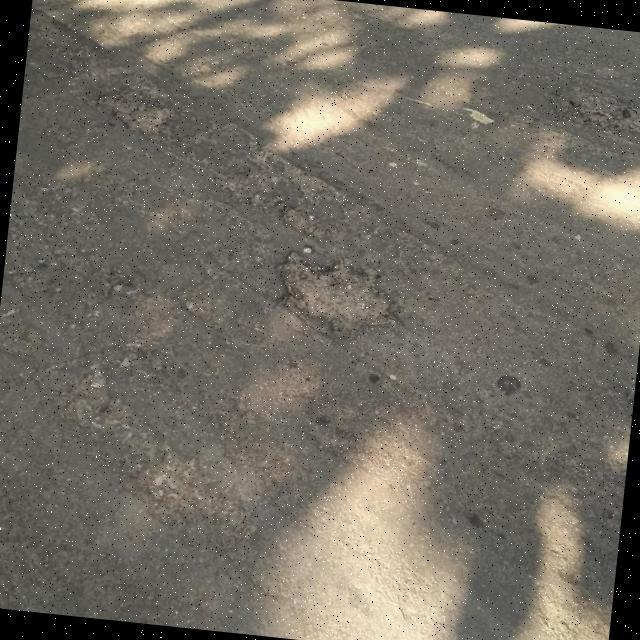Pothole: (275, 256, 397, 335)
